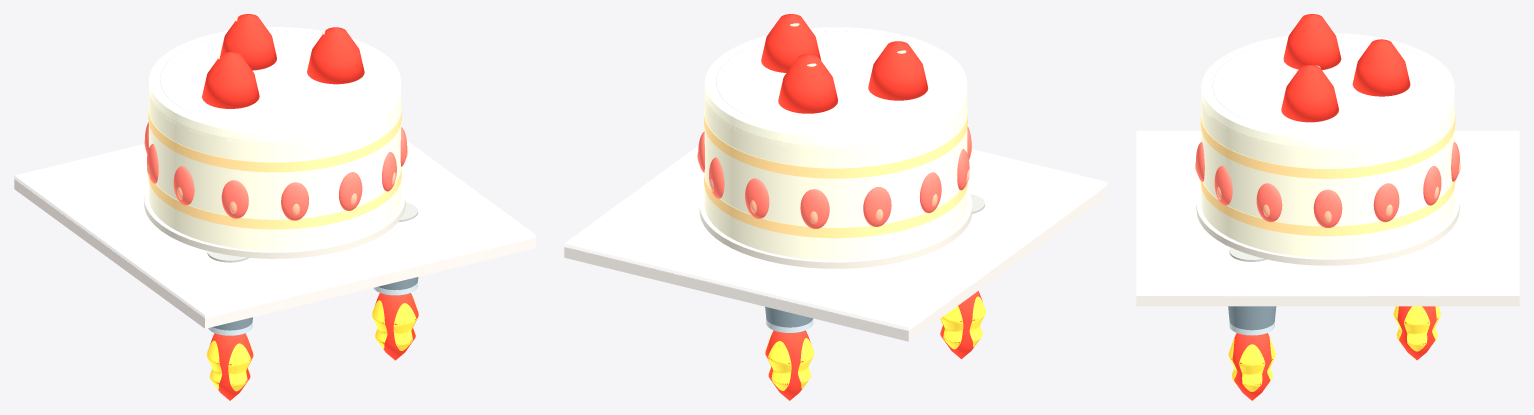
Rendered from ship-09.glb.
The picture shows the model from 3 angles, left to right: view 1: azimuth 30°, elevation 25°; view 2: azimuth 150°, elevation 25°; view 3: azimuth 270°, elevation 25°; orthographic projection. The views are drawn at different scales.
Parts seen in each view (by area): view 1: 로케이크, engine-flame (×2); view 2: 로케이크, engine-flame (×2); view 3: 로케이크, engine-flame (×2).
Boxes of the visible parts, left/top/right/bottom form: 로케이크: left=14, top=14, right=535, bottom=335; engine-flame (×2): left=206, top=293, right=418, bottom=400; 로케이크: left=564, top=14, right=1107, bottom=341; engine-flame (×2): left=765, top=291, right=985, bottom=400; 로케이크: left=1136, top=14, right=1519, bottom=335; engine-flame (×2): left=1228, top=306, right=1440, bottom=400.
Bounding box in the file's own units: 27 × 24.88 × 27.
